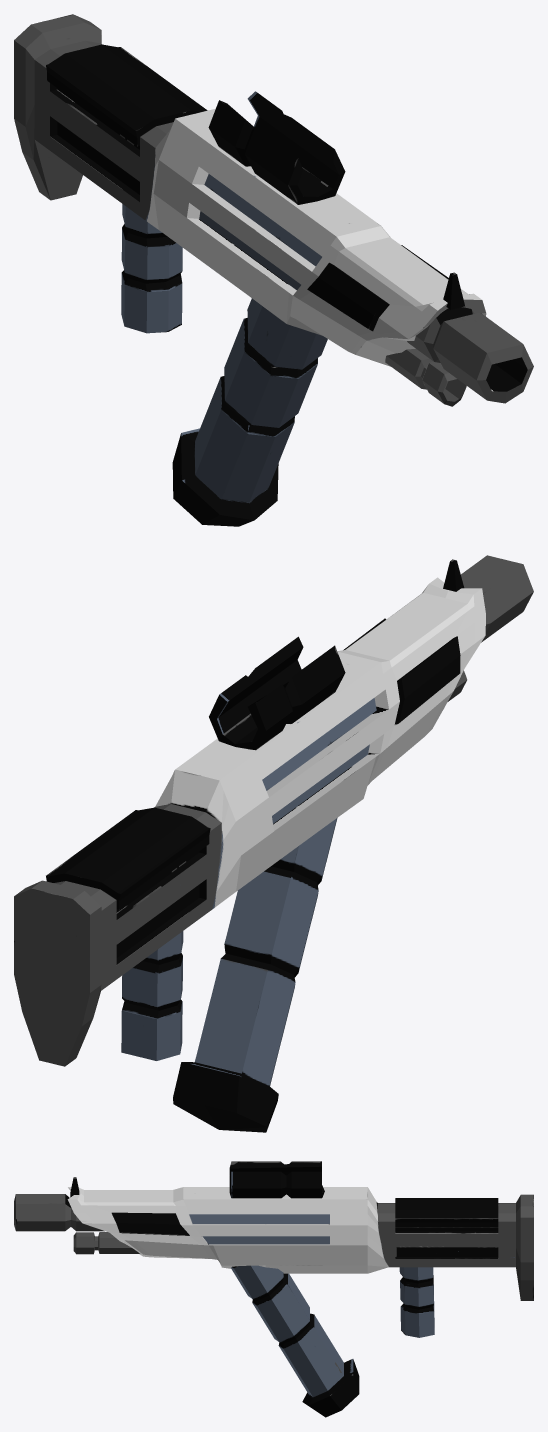
File: arma2.fbx
3 views of the same model, one above another, from view 1: azimuth 30°, elevation 25°; view 2: azimuth 150°, elevation 25°; view 3: azimuth 270°, elevation 25° (orthographic). The views are drawn at different scales.
Parts seen in each view (by area): view 1: Cube; view 2: Cube; view 3: Cube.
Part boxes in pixels (x1,y1,x2,y2): Cube: (14,14,533,526); Cube: (14,555,533,1132); Cube: (14,1161,533,1417).
Bounding box in the file's own units: 317 × 1346 × 2581.
1 material, 1 textured.
